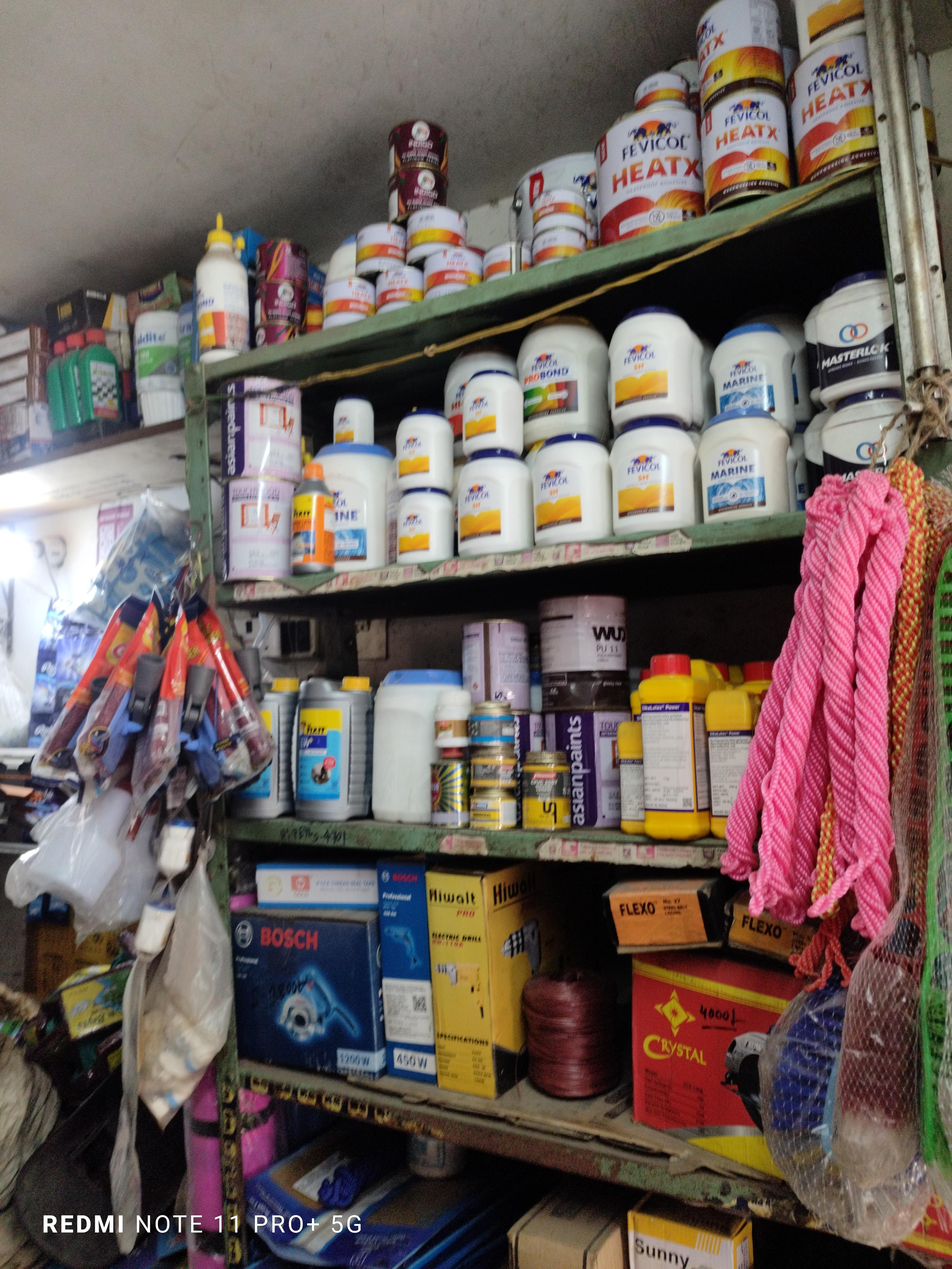Fevicol_HEATX: (595, 109, 704, 242), (790, 35, 878, 184), (696, 0, 784, 113), (407, 206, 467, 264), (531, 187, 587, 238), (425, 247, 482, 297), (356, 222, 406, 278), (324, 277, 375, 327), (376, 265, 423, 313), (634, 71, 688, 110), (532, 229, 586, 266), (484, 241, 531, 280), (97, 21, 112, 27)
Fevicol_SH: (610, 307, 696, 432), (610, 418, 701, 535), (532, 433, 612, 545), (458, 450, 533, 556), (463, 371, 522, 457), (396, 410, 453, 492), (397, 487, 453, 563), (334, 396, 374, 444)
